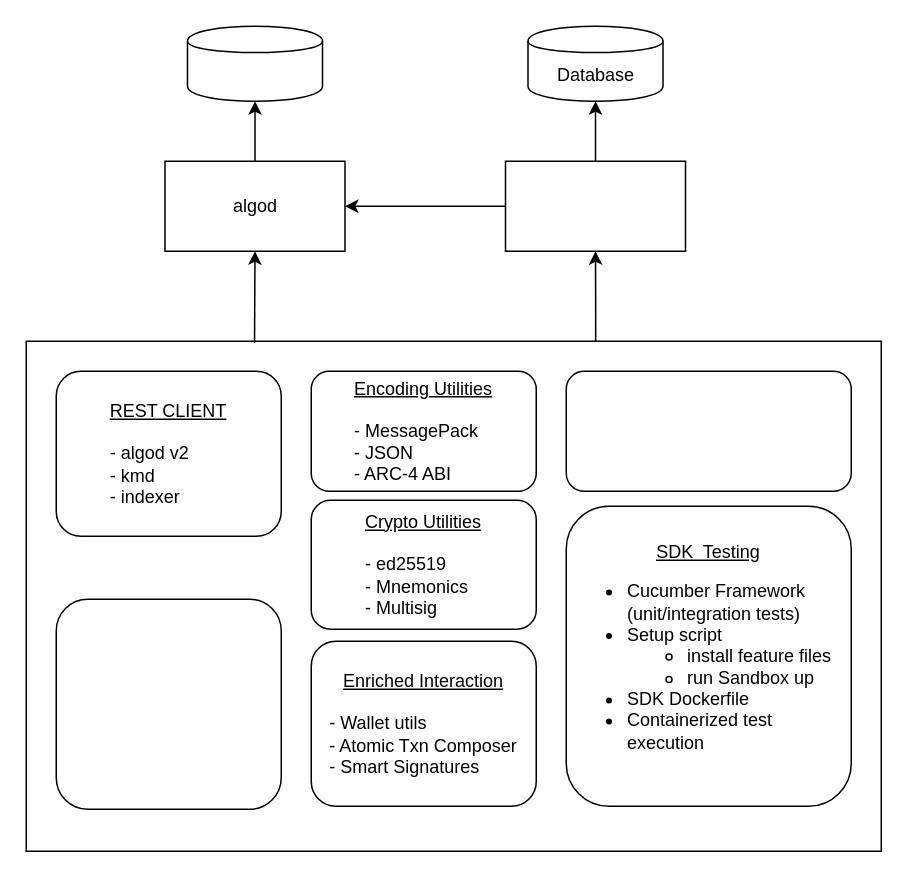
This 908x878 diagram has some shape labels left out. The shapes that lost their labels are listed below. From the top down, each one's centre as x and y in pixels, then its label:
At [254,63]: "Blockchain".
At [595,205]: "Indexer".
At [708,430]: "dApp Testing - Dryrun Helpers - Simulate".
At [168,703]: "Transaction Utils - Payment - Key Registration - Asset Config - etc".
